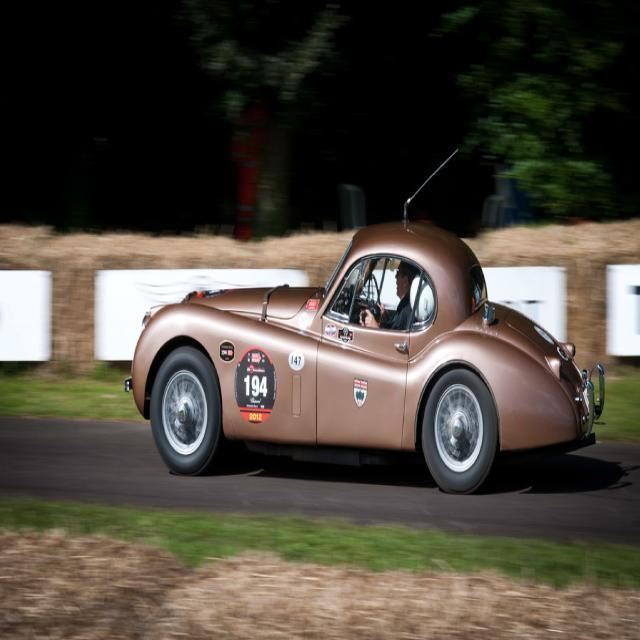car: (128, 212, 584, 493)
